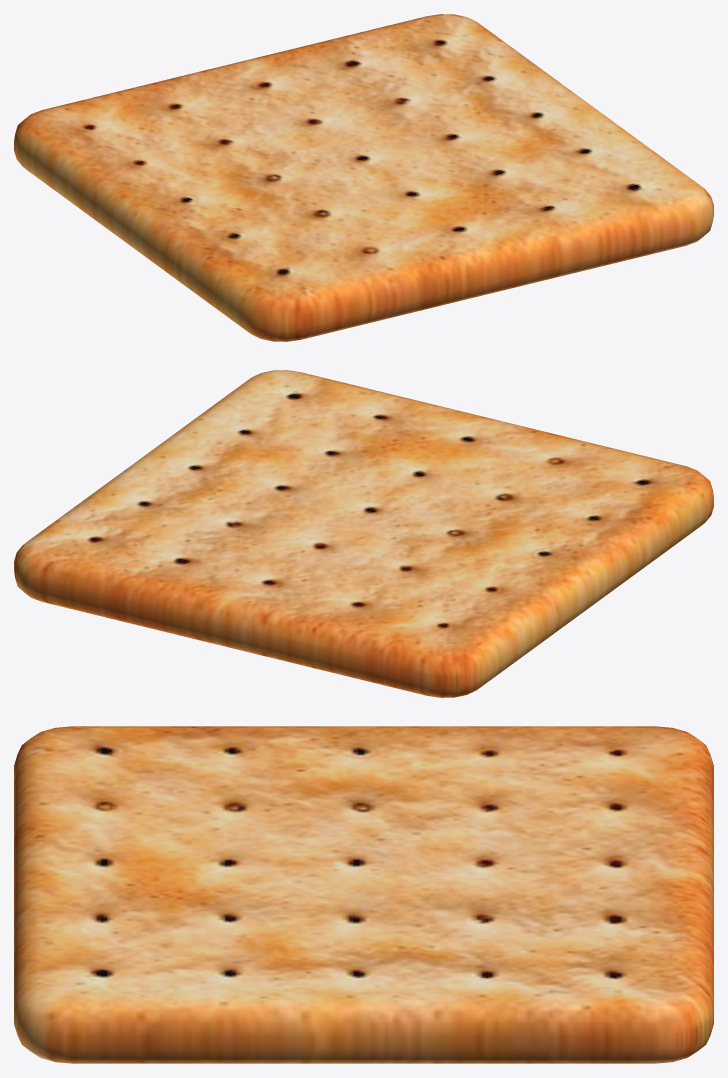
Rendered from candy_waf_11.fbx.
The picture shows the model from 3 angles, top to bottom: view 1: azimuth 30°, elevation 25°; view 2: azimuth 150°, elevation 25°; view 3: azimuth 270°, elevation 25°; orthographic projection. The views are drawn at different scales.
Visible parts, largest first — view 1: c_w_11; view 2: c_w_11; view 3: c_w_11.
Part boxes in pixels (x1,y1,x2,y2): c_w_11: [14, 14, 713, 341]; c_w_11: [14, 370, 713, 697]; c_w_11: [14, 726, 713, 1063].
Bounding box in the file's own units: 179 × 16.67 × 179.
